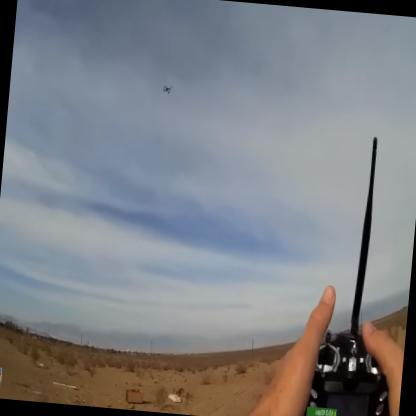drone: (159, 80, 175, 98)
